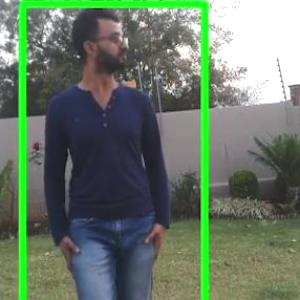follow: (60, 0, 220, 299)
